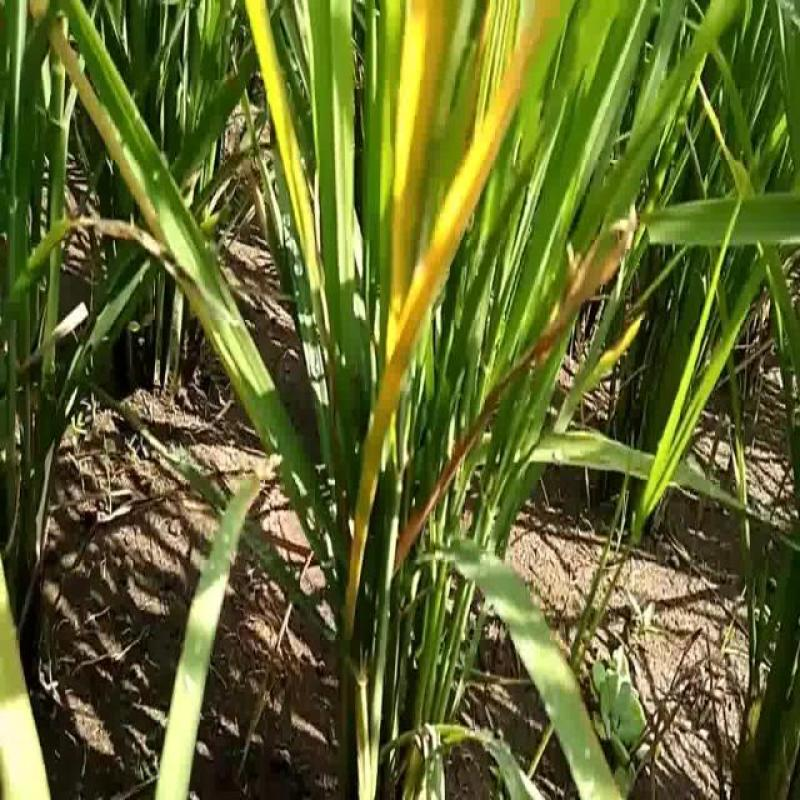Rice Tungro: (344, 19, 555, 626), (377, 1, 468, 349), (29, 6, 145, 209), (240, 4, 318, 271)
